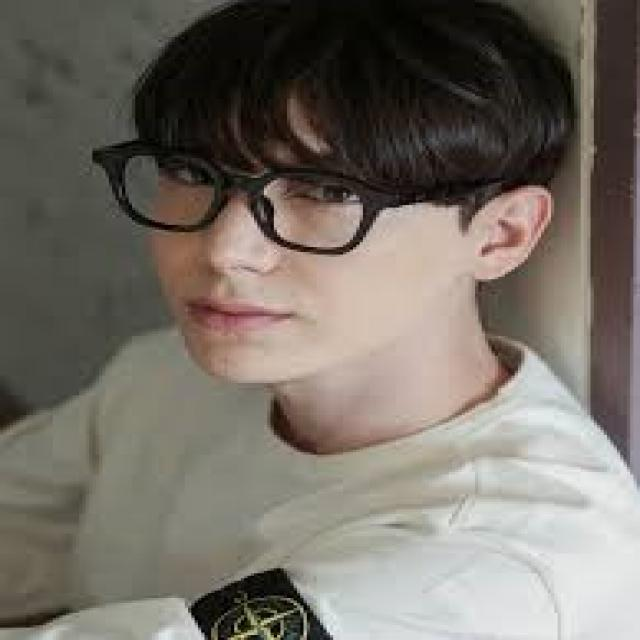Glasses: (72, 126, 524, 259)
